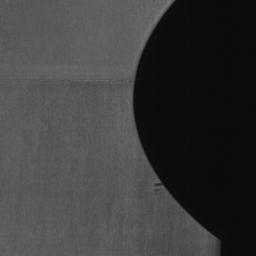Crescent gap: (133, 0, 219, 240)
